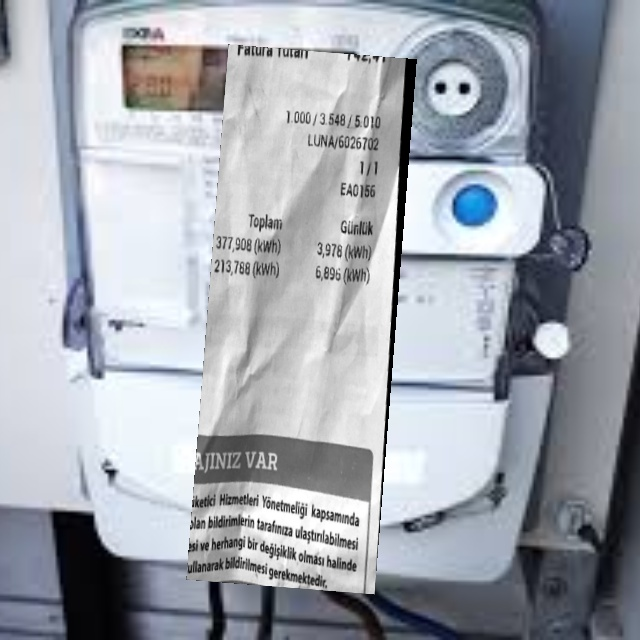electricity-bill: (186, 43, 417, 594)
